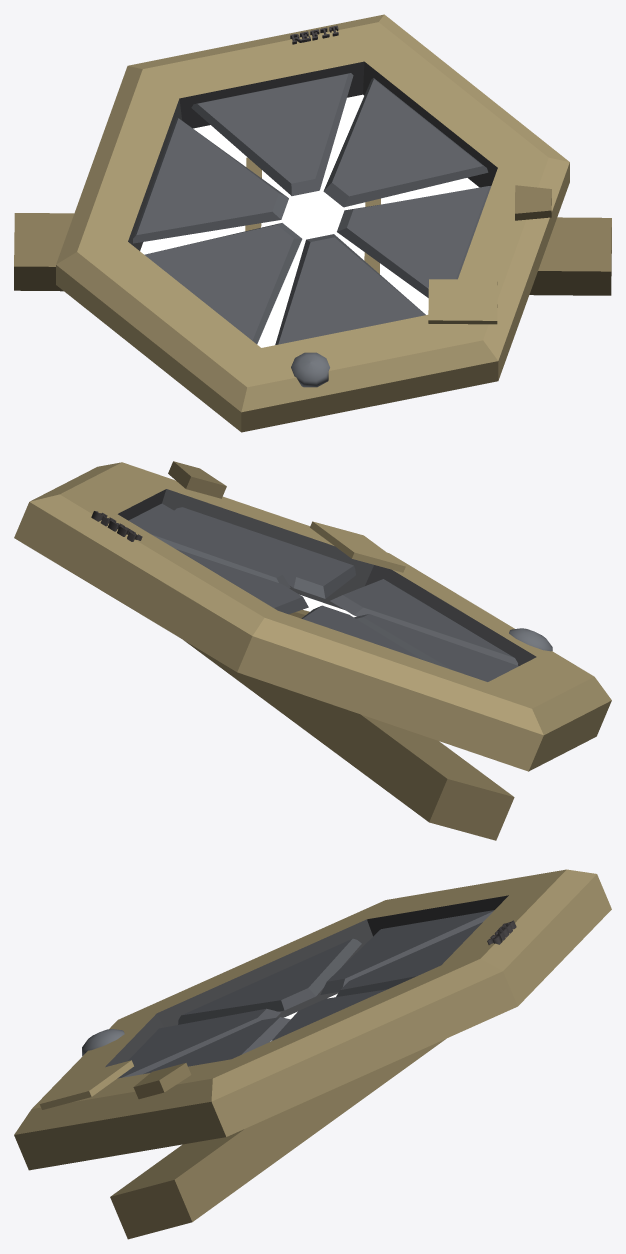
Rendered from refit.glb.
3 renders of one model, top to bottom at view 1: azimuth 30°, elevation 25°; view 2: azimuth 150°, elevation 25°; view 3: azimuth 270°, elevation 25°, orthographic. The views are drawn at different scales.
Parts seen in each view (by area): view 1: kvs_refit_frame, kvs_refit_leaf_1, kvs_refit_leaf_0, kvs_refit_leaf_2, kvs_refit_leaf_5, kvs_refit_leaf_3, kvs_refit_srail, kvs_refit_leaf_4, kvs_refit_glow, kvs_refit_throat, kvs_refit_tally, kvs_refit_detent (+1 smaller); view 2: kvs_refit_frame, kvs_refit_srail, kvs_refit_throat, kvs_refit_leaf_5, kvs_refit_leaf_4, kvs_refit_leaf_0, kvs_refit_leaf_3, kvs_refit_leaf_1, kvs_refit_tally, kvs_refit_leaf_2, kvs_refit_detent, kvs_refit_jewel (+1 smaller); view 3: kvs_refit_frame, kvs_refit_srail, kvs_refit_throat, kvs_refit_leaf_3, kvs_refit_leaf_2, kvs_refit_leaf_4, kvs_refit_leaf_1, kvs_refit_leaf_5, kvs_refit_tally, kvs_refit_leaf_0, kvs_refit_detent, kvs_refit_jewel.
Part boxes in pixels (x1,y1,x2,y2): kvs_refit_frame: (56,14,569,432); kvs_refit_leaf_1: (191,73,353,195); kvs_refit_leaf_0: (323,78,488,207); kvs_refit_leaf_2: (133,117,288,243); kvs_refit_leaf_5: (337,186,491,297); kvs_refit_leaf_3: (144,223,302,344); kvs_refit_srail: (14,213,611,295); kvs_refit_leaf_4: (275,234,425,344); kvs_refit_glow: (140,94,479,347); kvs_refit_throat: (128,61,497,250); kvs_refit_tally: (428,279,497,324); kvs_refit_detent: (515,185,551,220); kvs_refit_frame: (14,462,611,771); kvs_refit_srail: (184,640,514,840); kvs_refit_throat: (118,489,536,665); kvs_refit_leaf_5: (174,507,355,598); kvs_refit_leaf_4: (330,579,517,665); kvs_refit_leaf_0: (128,503,290,588); kvs_refit_leaf_3: (354,614,518,681); kvs_refit_leaf_1: (175,548,308,614); kvs_refit_tally: (310,521,405,572); kvs_refit_leaf_2: (301,605,422,659); kvs_refit_detent: (168,461,226,498); kvs_refit_jewel: (509,628,552,651); kvs_refit_frame: (14,869,611,1170); kvs_refit_srail: (110,1038,446,1239); kvs_refit_throat: (105,895,508,1067); kvs_refit_leaf_3: (178,938,361,1024); kvs_refit_leaf_2: (320,910,494,994); kvs_refit_leaf_4: (117,1008,280,1078); kvs_refit_leaf_1: (336,922,482,996); kvs_refit_leaf_5: (143,1017,290,1074); kvs_refit_tally: (39,1060,133,1109); kvs_refit_leaf_0: (271,989,386,1041); kvs_refit_detent: (133,1063,191,1099); kvs_refit_jewel: (82,1029,124,1055).
Bounding box in the file's own units: 0.0367 × 0.0171 × 0.0326.
